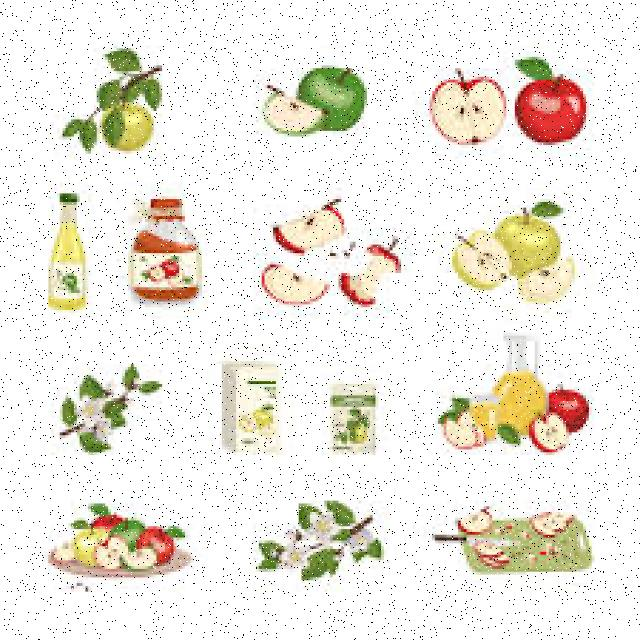Apple: (427, 77, 506, 146), (513, 76, 590, 146), (297, 67, 367, 132), (270, 200, 348, 257), (335, 250, 406, 308), (451, 230, 515, 290), (496, 212, 562, 270), (262, 256, 327, 308), (517, 252, 578, 302), (266, 90, 322, 133), (544, 383, 589, 432), (103, 109, 153, 149), (531, 415, 568, 454), (135, 530, 172, 566), (455, 506, 493, 540), (440, 416, 483, 446), (118, 545, 158, 576), (95, 536, 125, 573), (108, 522, 142, 548), (74, 532, 100, 566), (92, 515, 126, 535), (533, 513, 556, 538), (46, 544, 73, 565), (469, 545, 507, 556), (481, 555, 508, 569), (546, 516, 564, 532), (558, 510, 575, 520)
